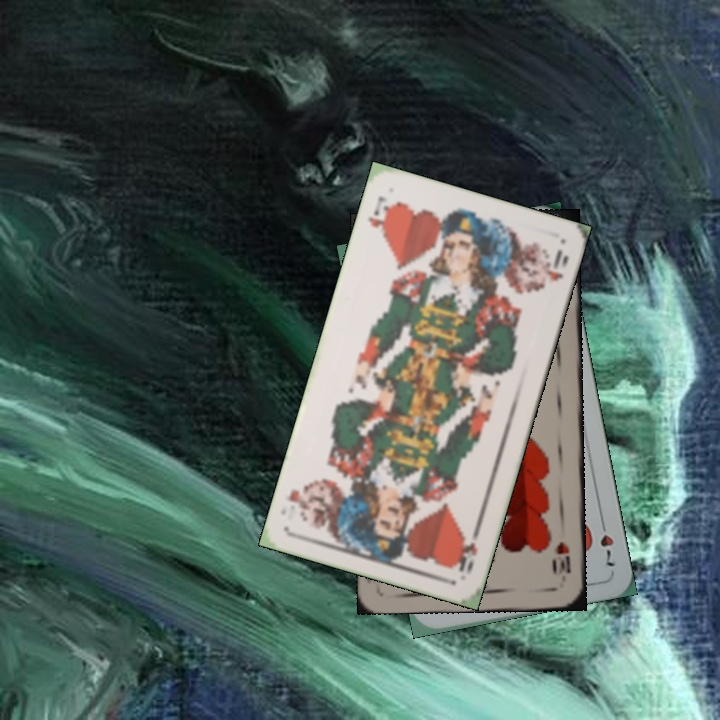H10: (550, 538, 573, 580)
H7: (596, 514, 618, 570)
HO: (454, 520, 484, 576), (364, 192, 395, 240)
